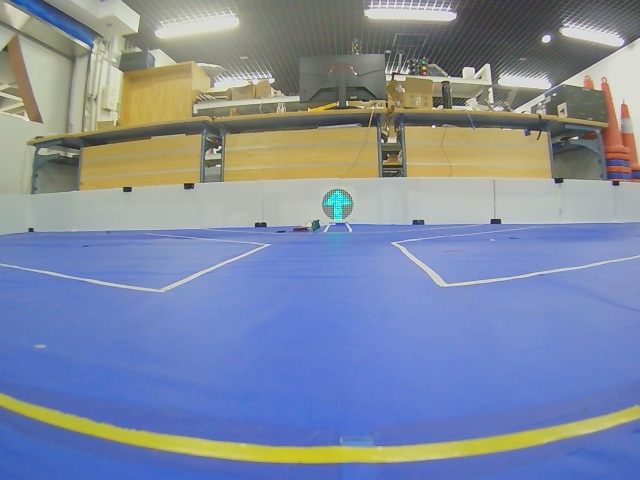straight_green: (322, 188, 353, 221)
